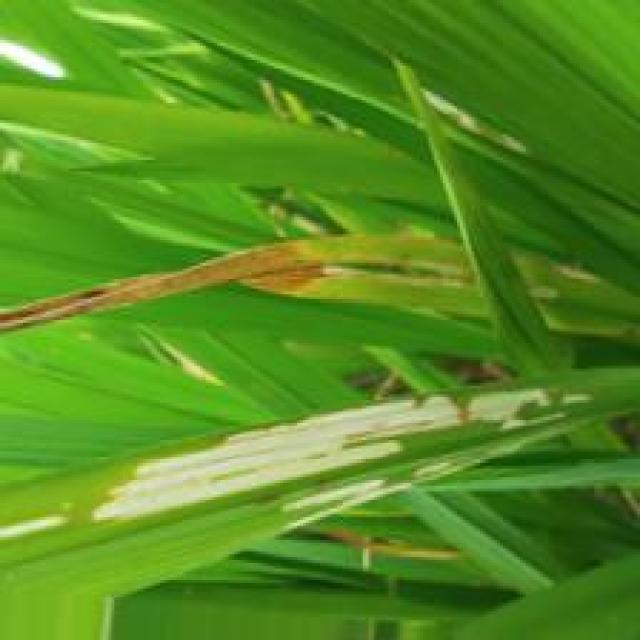Rice_Hispa: (83, 383, 547, 517)
